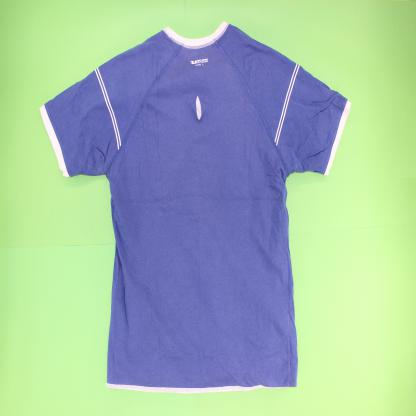hole: (195, 93, 203, 123)
